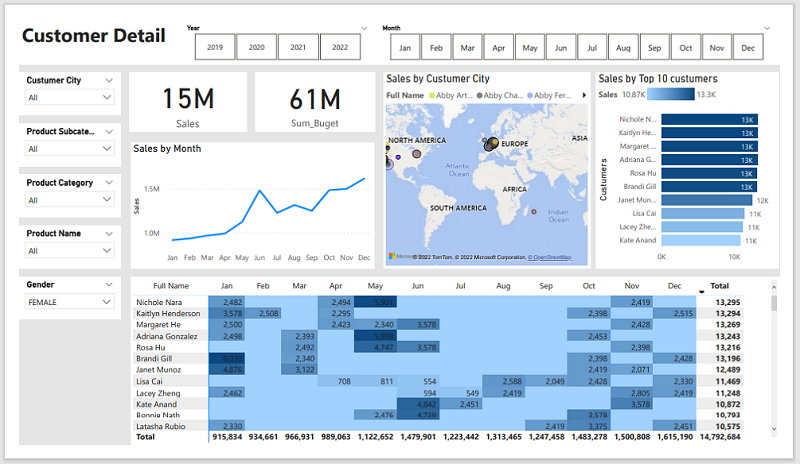

Layout of this report page (visuals, bound fields, positions):
{"tool":"powerbi","page":{"name":"Customer Detail","canvas":[1280,720],"ordinal":1},"visuals":[{"type":"textbox","box":[0,0,1280.5,77.6],"z":0},{"type":"slicer","fields":{"Values":["Dim_Custumer.Custumer City"]},"box":[0,91.8,170.8,72],"z":1000},{"type":"slicer","fields":{"Values":["Dim_Product.Product Subcategory"]},"box":[0,177.9,170.8,72],"z":2000},{"type":"slicer","fields":{"Values":["Dim_Product.Product Category"]},"box":[0,264,170.8,72],"z":3000},{"type":"slicer","fields":{"Values":["Dim_Product.Product Name"]},"box":[0,350.1,170.8,72],"z":4000},{"type":"slicer","fields":{"Values":["Dim_DateInformation.Year"]},"box":[269.6,5.6,328.9,72],"z":5000},{"type":"slicer","fields":{"Values":["Dim_DateInformation.MonthShort"]},"box":[598.6,5.6,677.6,72],"z":6000},{"type":"barChart","title":"Sales by Top 10 custumers","fields":{"Y":["Measures Table.Sales"],"Category":["Dim_Custumer.Full Name"]},"box":[971.3,91.8,309.2,330.4],"z":7000},{"type":"card","title":"Sales","fields":{"Values":["Measures Table.Sales"]},"box":[184.9,91.8,197.6,100.2],"z":8000},{"type":"card","fields":{"Values":["Measures Table.Sum_Buget"]},"box":[396.7,91.8,201.9,100.2],"z":9000},{"type":"map","title":"Sales by Custumer City ","fields":{"Series":["Dim_Custumer.Full Name"],"Size":["Measures Table.Sales"],"Category":["Dim_Custumer.Custumer City"]},"box":[612.7,91.8,348.7,330.4],"z":10000},{"type":"lineChart","title":"Sales by Month","fields":{"Y":["Measures Table.Sales"],"Category":["Dim_DateInformation.MonthShort"]},"box":[188.1,210,409.9,211.7],"z":11000},{"type":"pivotTable","fields":{"Rows":["Dim_Custumer.Full Name"],"Values":["Measures Table.Sales"],"Columns":["Dim_DateInformation.MonthShort"]},"box":[187.8,436.2,1092.7,283.8],"z":12000},{"type":"slicer","fields":{"Values":["Dim_Custumer.Gender"]},"box":[0,436.3,170.7,71.6],"z":13000}]}

Visuals, with their boxes on the page's 1280x720 design canvas (x1, y1, x2, y2). These are canvas units, not pixel positions in the 800x464 screenshot, which may show the page scaled, cropped or inside an application window:
textbox: bbox=[0, 0, 1280, 78]
slicer - Dim_Custumer.Custumer City: bbox=[0, 92, 171, 164]
slicer - Dim_Product.Product Subcategory: bbox=[0, 178, 171, 250]
slicer - Dim_Product.Product Category: bbox=[0, 264, 171, 336]
slicer - Dim_Product.Product Name: bbox=[0, 350, 171, 422]
slicer - Dim_DateInformation.Year: bbox=[270, 6, 598, 78]
slicer - Dim_DateInformation.MonthShort: bbox=[599, 6, 1276, 78]
"Sales by Top 10 custumers" barChart: bbox=[971, 92, 1280, 422]
"Sales" card: bbox=[185, 92, 382, 192]
card - Measures Table.Sum_Buget: bbox=[397, 92, 599, 192]
"Sales by Custumer City " map: bbox=[613, 92, 961, 422]
"Sales by Month" lineChart: bbox=[188, 210, 598, 422]
pivotTable - Dim_Custumer.Full Name x Measures Table.Sales: bbox=[188, 436, 1280, 720]
slicer - Dim_Custumer.Gender: bbox=[0, 436, 171, 508]
